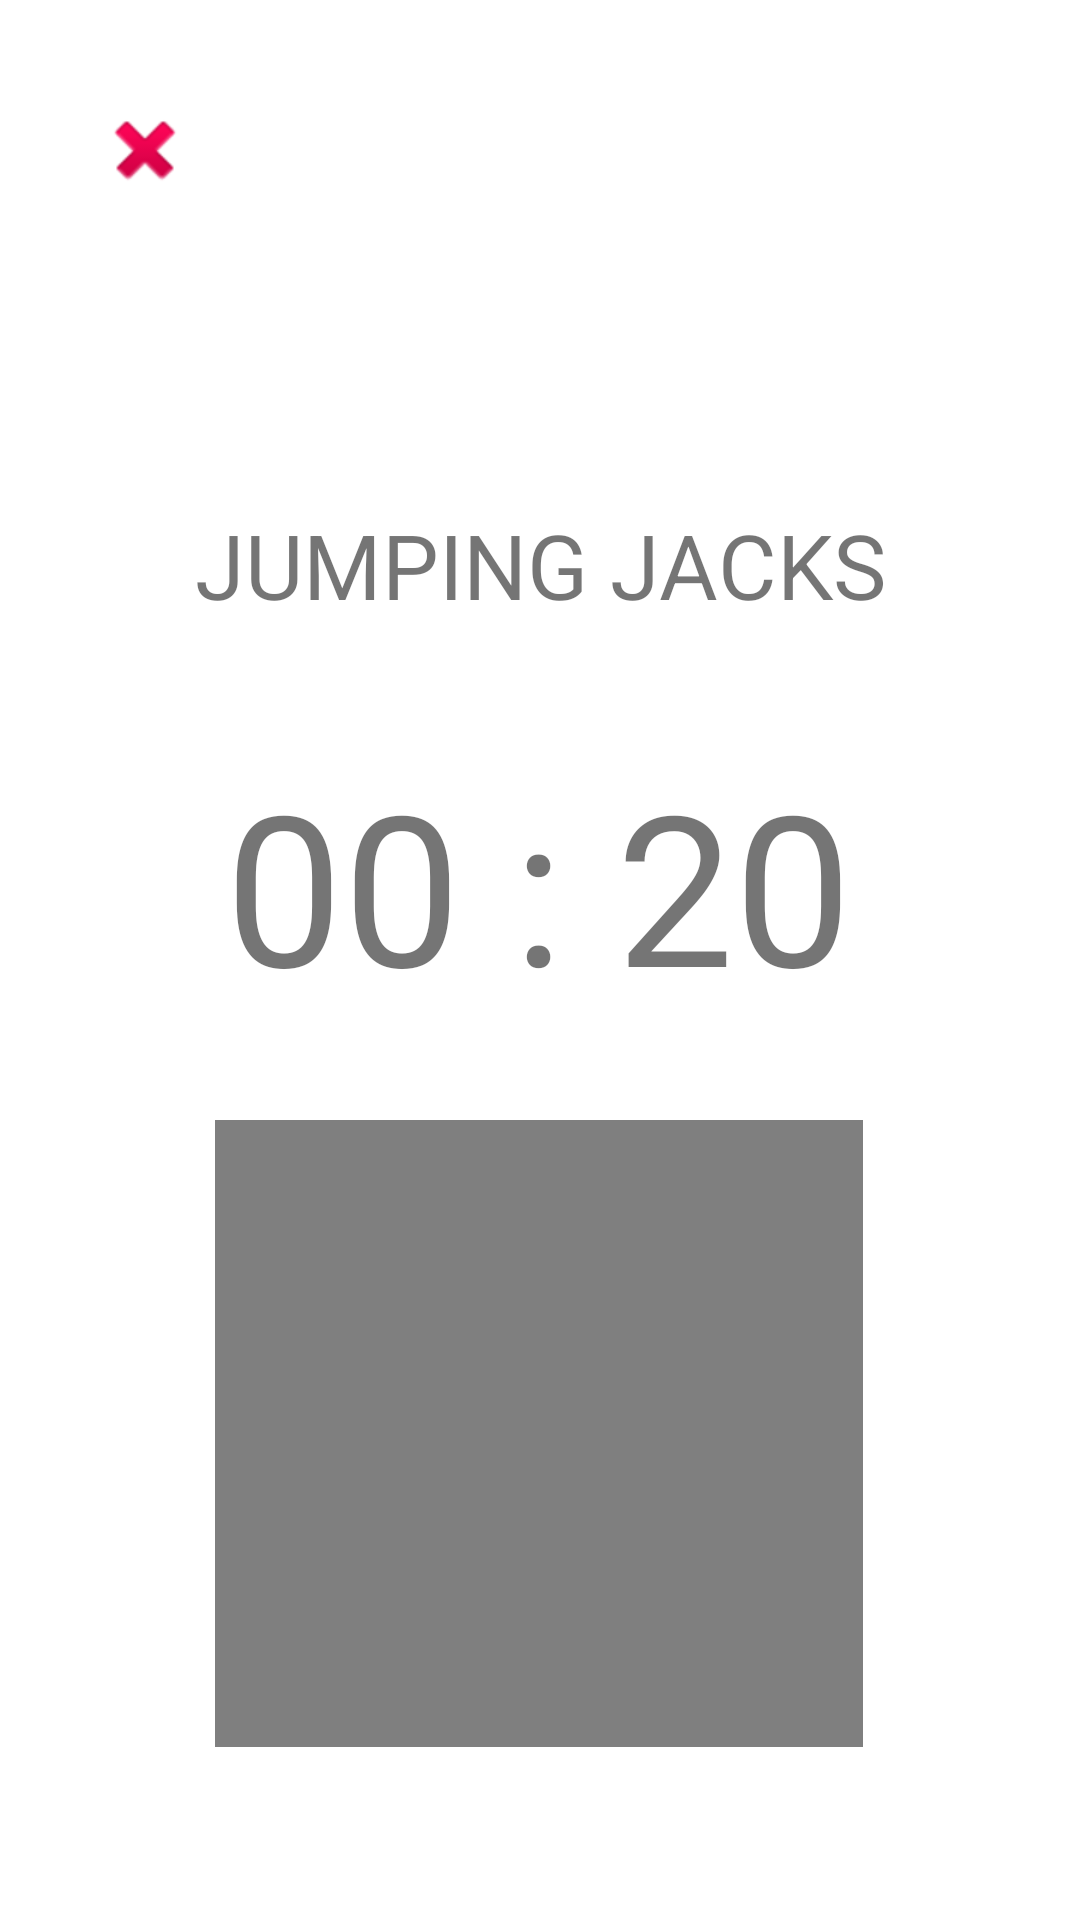

Named icons in this screenshot (1080w x 1920h) and their centers, (x,y):
delete: (145,150)
